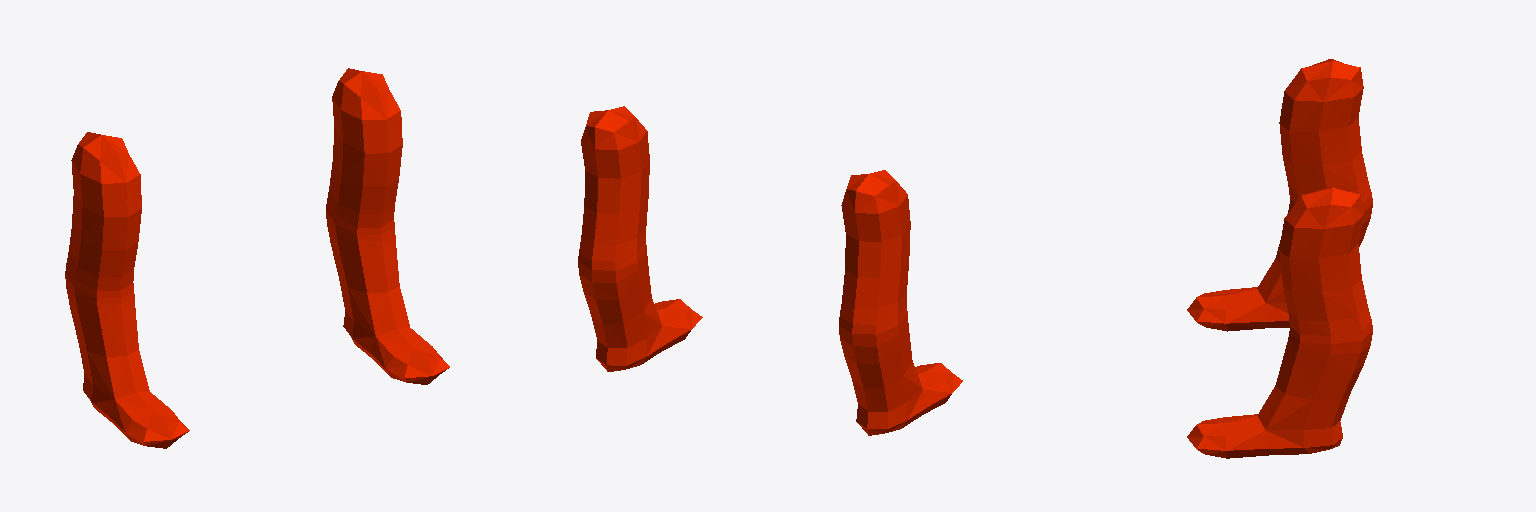
The model's file is squirrel_frontlegs.obj.
3 renders of one model, left to right at view 1: azimuth 30°, elevation 25°; view 2: azimuth 150°, elevation 25°; view 3: azimuth 270°, elevation 25°, orthographic.
Visible parts, largest first — view 1: Cube.001, Cube.002; view 2: Cube.002, Cube.001; view 3: Cube.001, Cube.002.
Part boxes in pixels (left/top/right/bottom): Cube.001: left=326, top=68, right=449, bottom=384; Cube.002: left=65, top=132, right=189, bottom=448; Cube.002: left=839, top=170, right=962, bottom=435; Cube.001: left=578, top=106, right=702, bottom=371; Cube.001: left=1187, top=186, right=1372, bottom=458; Cube.002: left=1187, top=59, right=1372, bottom=331.
Bounding box in the file's own units: 2.18 × 1.75 × 1.11.